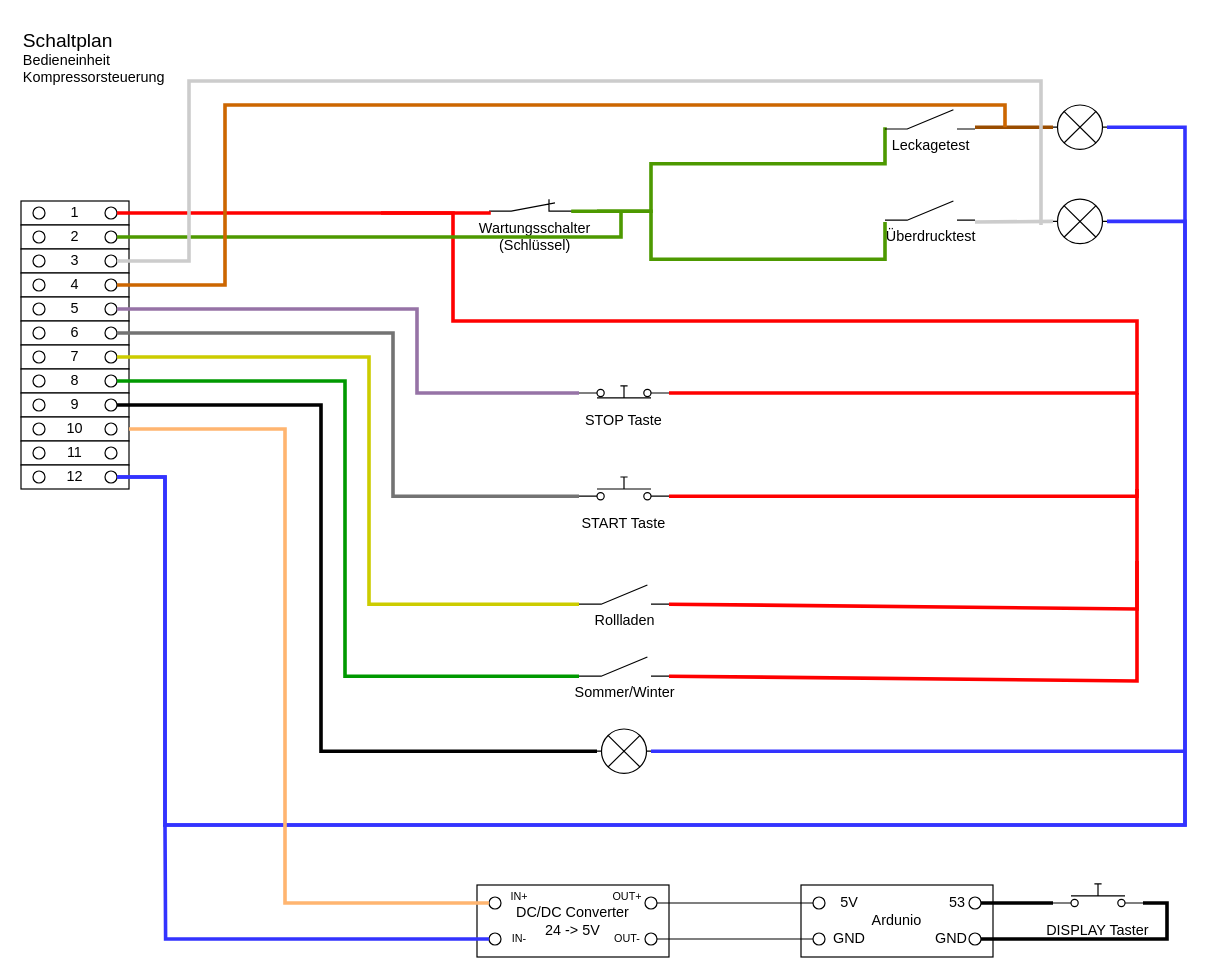
The diagram is 1208 pixels wide and 978 high, and some of its shapes have lost their labels. Here are the shapes that lost their labels. From the top down, the centre of each, then its label:
(1079,126): LED Leckagetest
(1079,221): LED Überdrucktest
(623,750): LED Fehlerzustand
